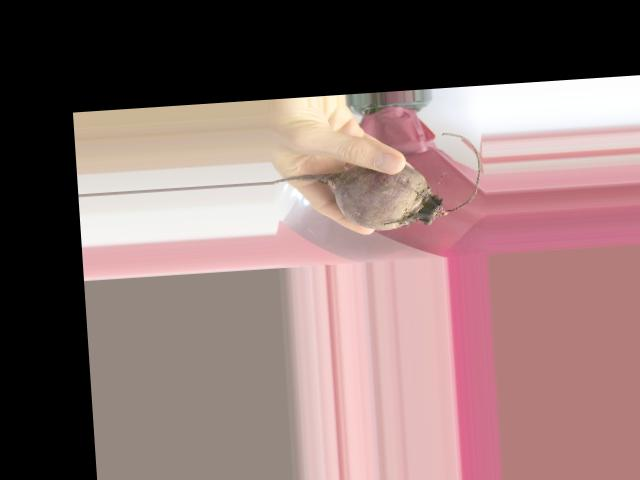beet: (270, 130, 485, 236)
